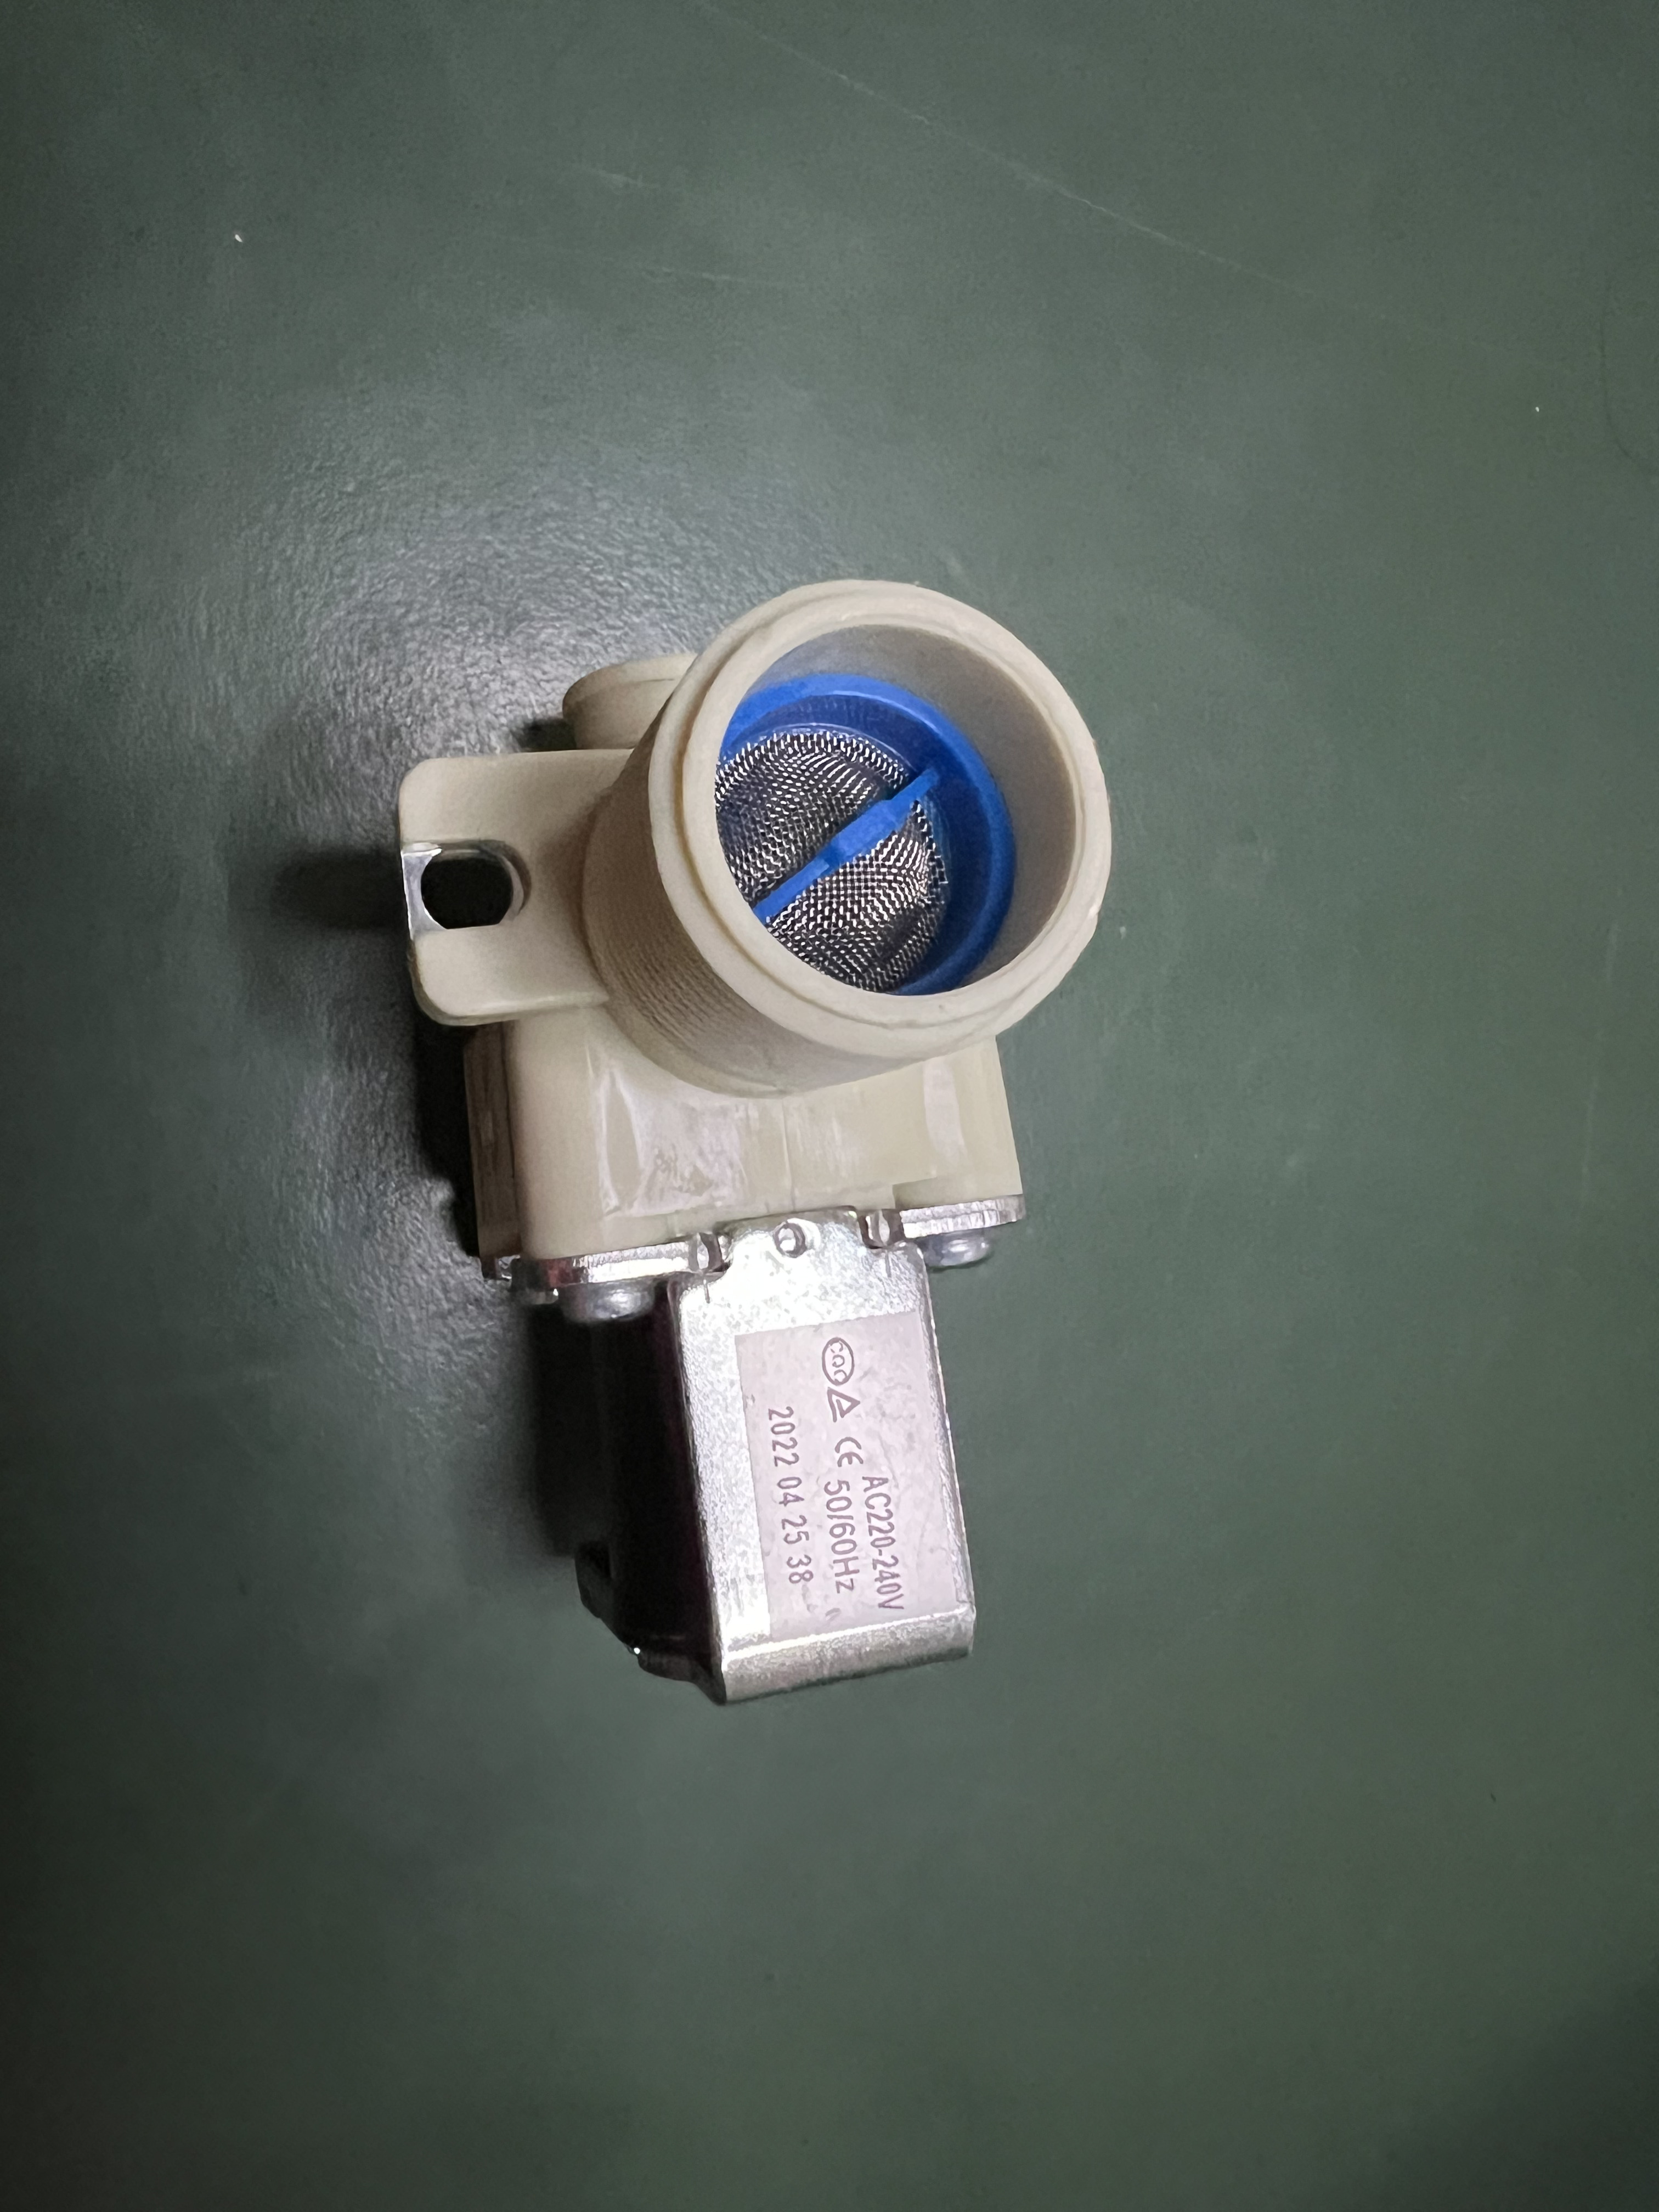godrej_inlet_valves: (359, 550, 1112, 1686)
